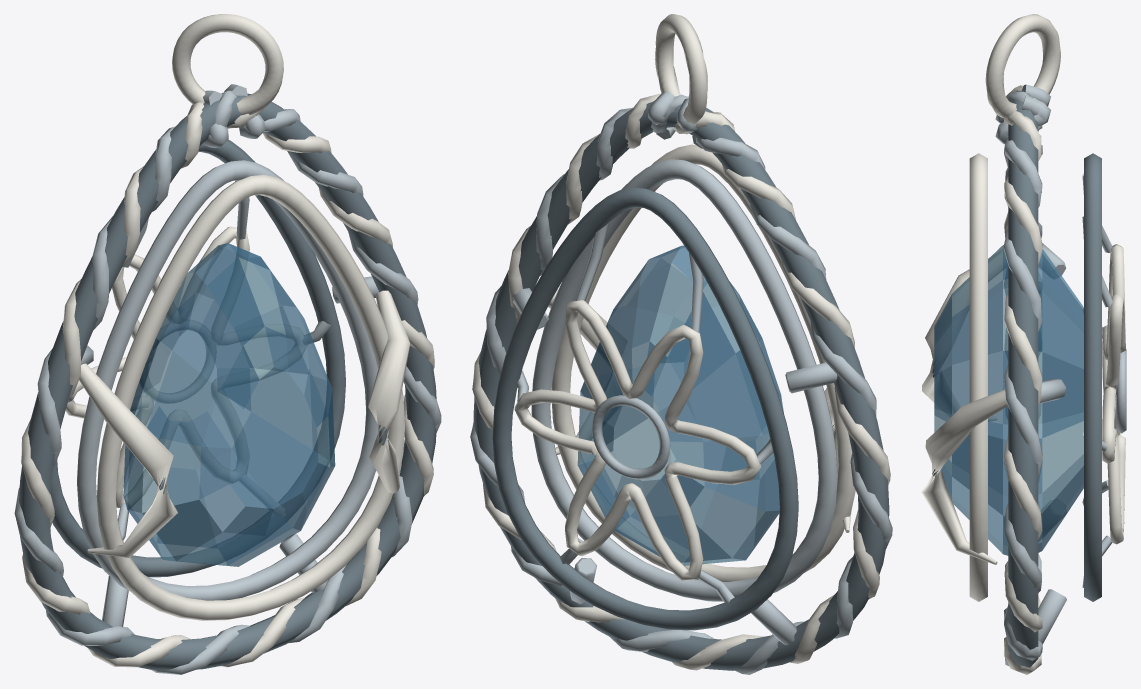
The model's file is charm_old_silver.glb.
The picture shows the model from 3 angles, left to right: view 1: azimuth 30°, elevation 25°; view 2: azimuth 150°, elevation 25°; view 3: azimuth 270°, elevation 25°; orthographic projection. The views are drawn at different scales.
Parts seen in each view (by area): view 1: Old silver charm; view 2: Old silver charm; view 3: Old silver charm.
Boxes of the visible parts, bbox=[...] form: Old silver charm: bbox=[14, 14, 441, 674]; Old silver charm: bbox=[470, 14, 892, 674]; Old silver charm: bbox=[921, 14, 1126, 674].
Bounding box in the file's own units: 0.6743 × 1 × 0.2947.
